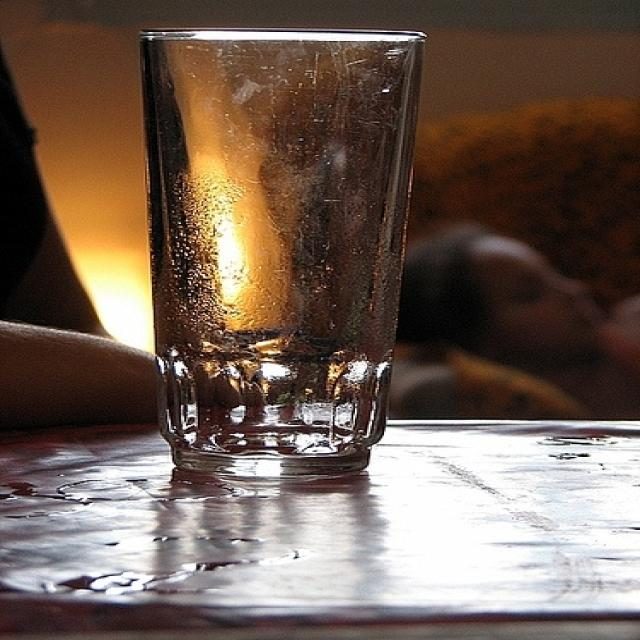Glass: (119, 3, 440, 484)
